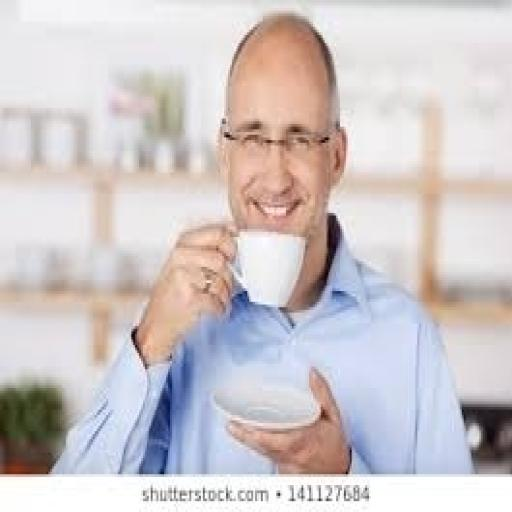drinking: (226, 112, 309, 309)
